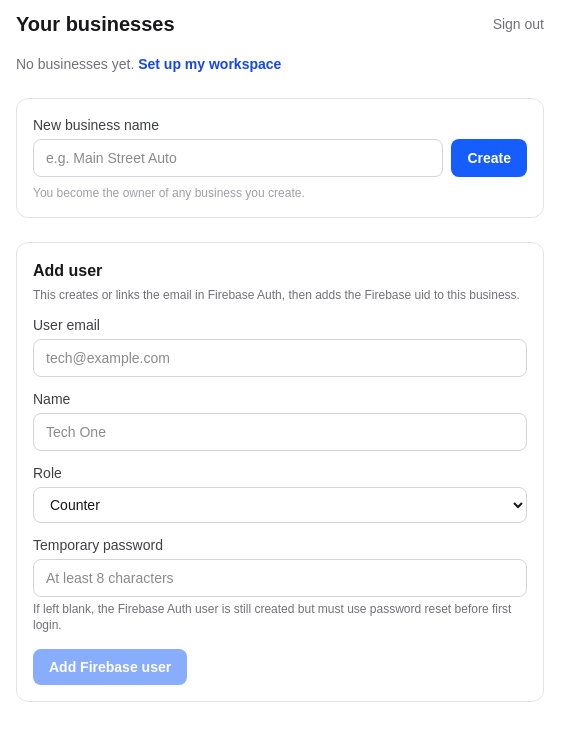
business page recovery › repairs a missing default workspace and refreshes memberships
Click the button with test id "repair-workspace" at (210, 64), box [138, 54, 281, 74]
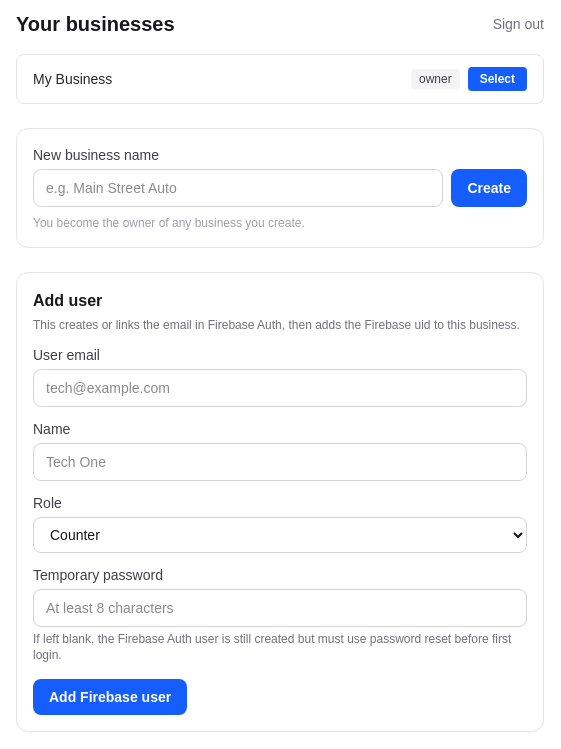
Now the text "My Business" is shown, box [33, 69, 112, 89]
